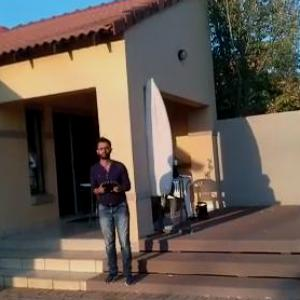follow: (89, 134, 139, 289)
